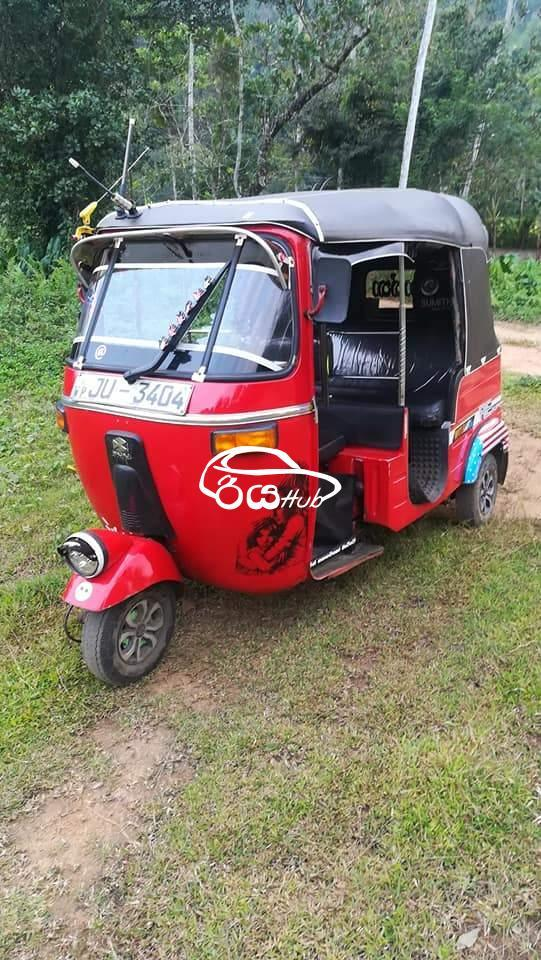threewheel: (53, 186, 504, 688)
